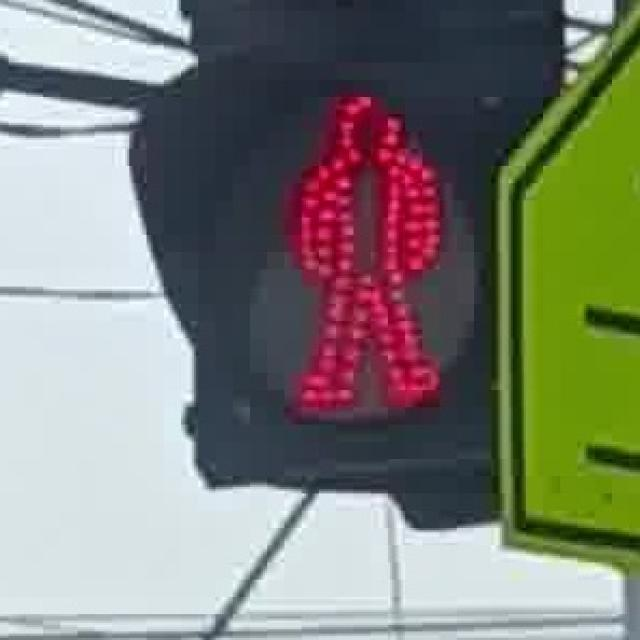red_light: (267, 66, 442, 434)
